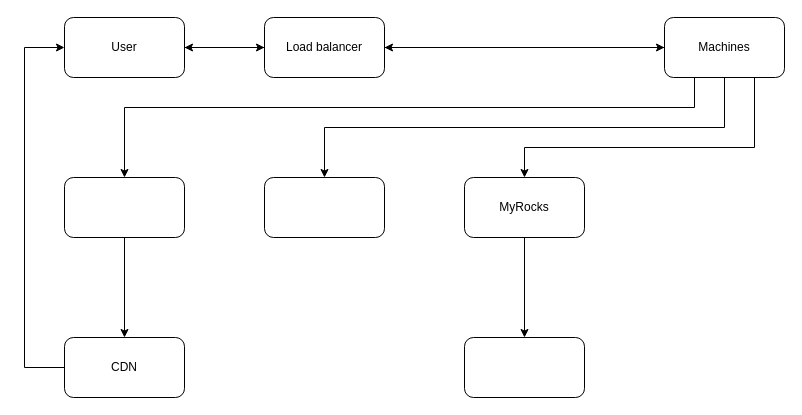
This 802x415 diagram has some shape labels left out. The shapes that lost their labels are listed below. From the top down, each one's centre as x and y in pixels, then its label:
(x=124, y=207): Blob storage
(x=324, y=207): MySQL
(x=524, y=367): ML engine
